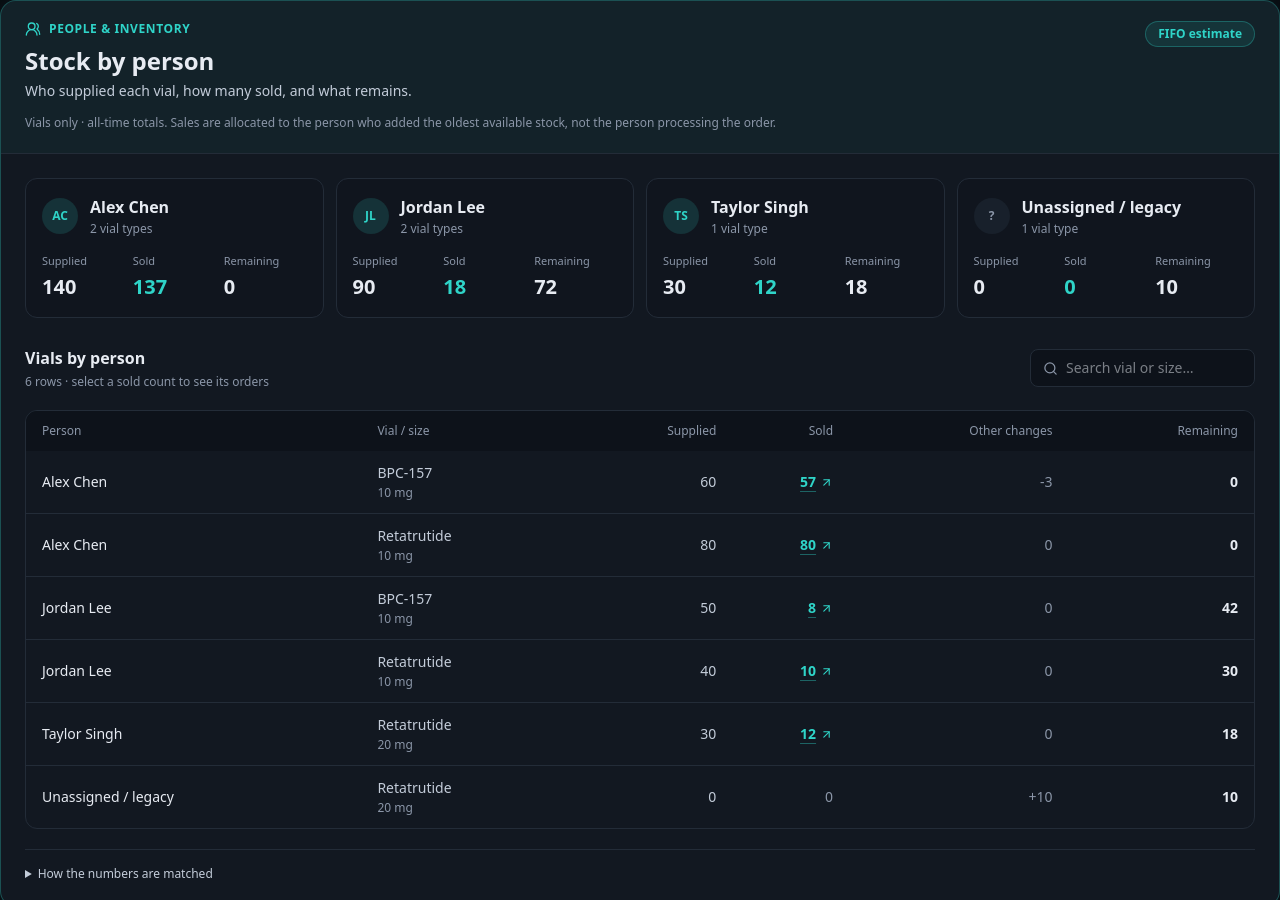
Test: filters by supplying person and vial size while keeping the matching counts together
Click the button with aria-label "View stock for Jordan Lee" at point(370, 216), box [336,178,634,318]
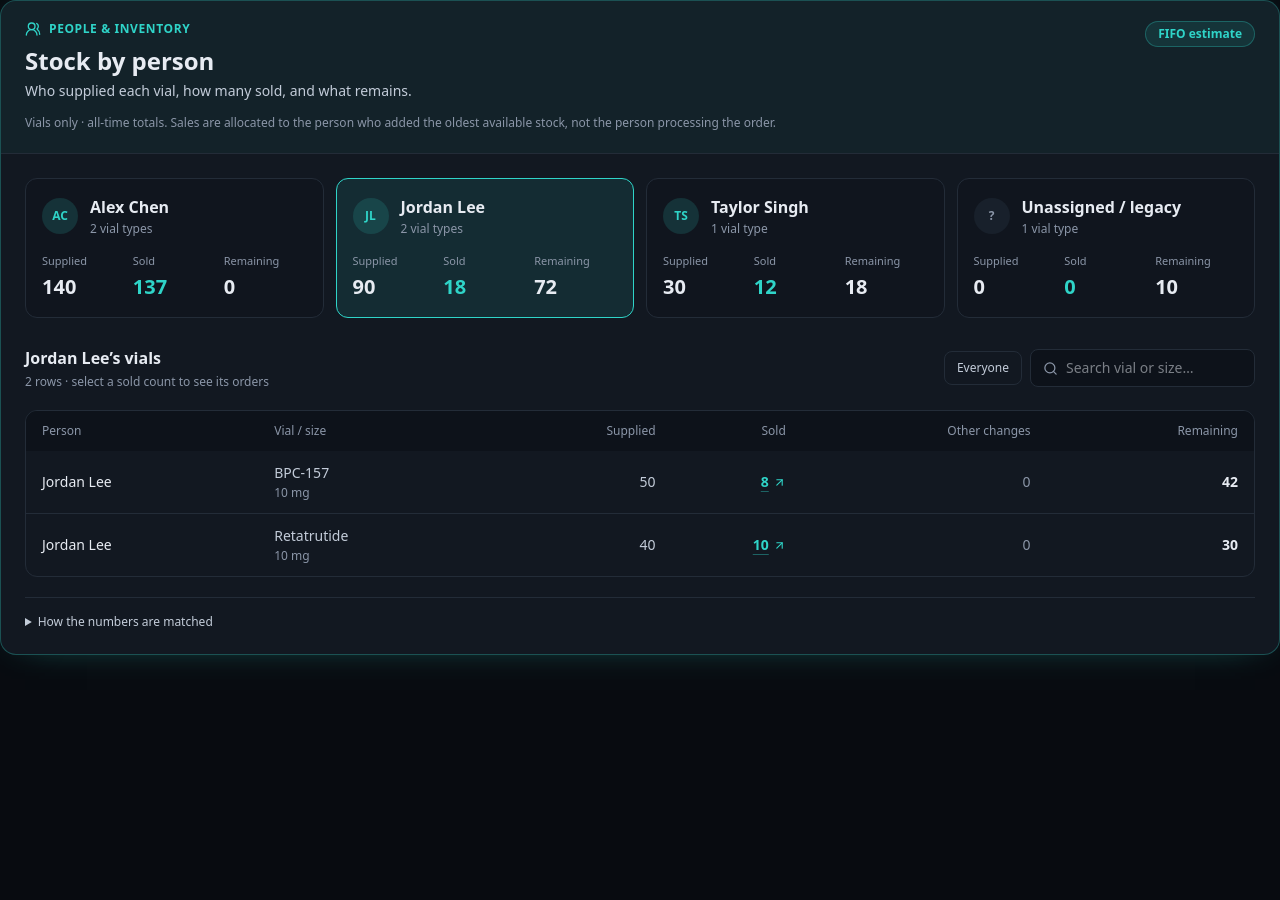
Type "Retatrutide 10 mg" into the field named "Search vials" at point(1154, 368), box [1066,358,1242,378]
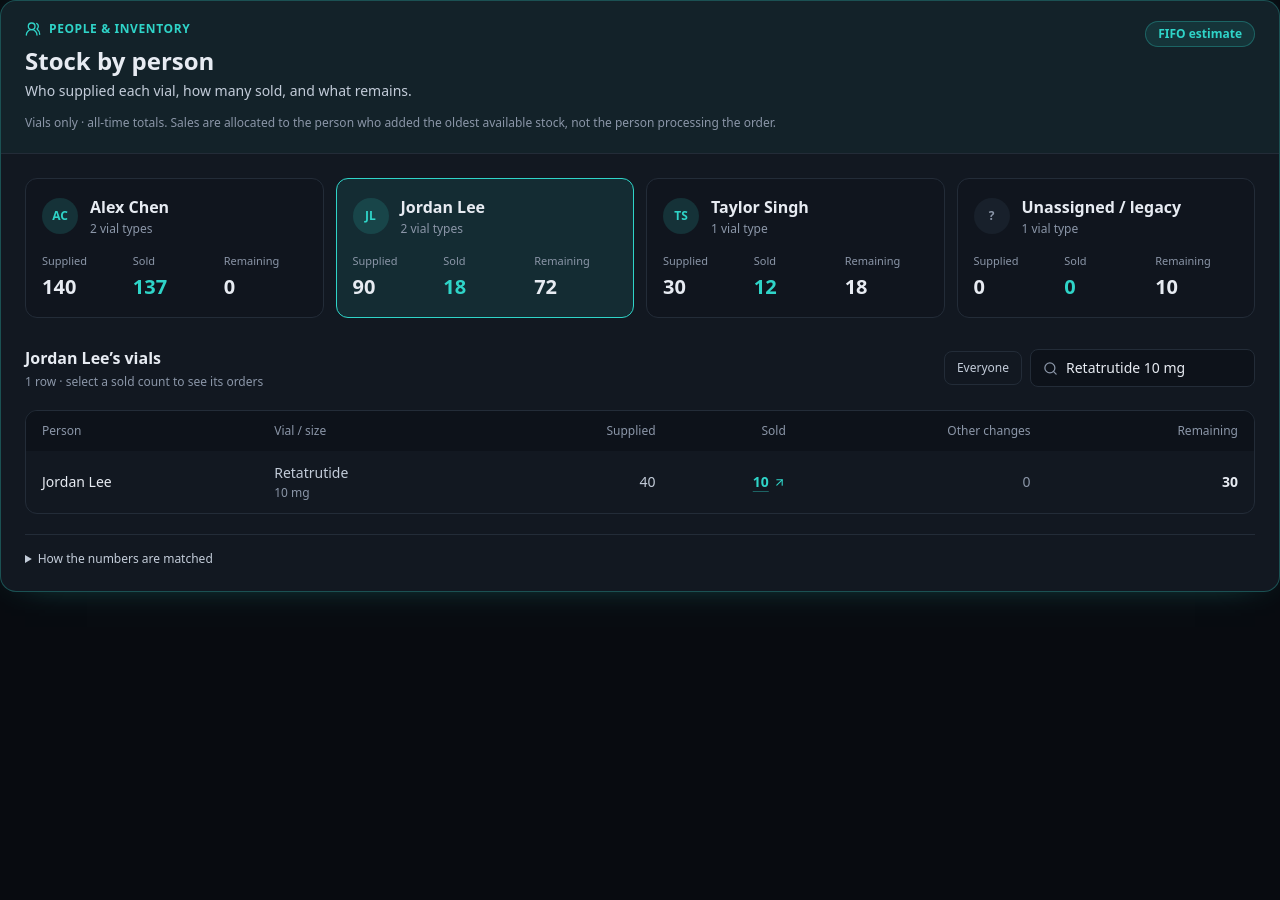
Expected: the number of rows is 2, [26,411,1254,451]; [26,451,1254,513]
Expected: the cells read "Retatrutide10 mg", "40", "10", "0", "30", in this order, [258,451,501,513]; [501,451,668,513]; [668,451,798,513]; [798,451,1043,513]; [1042,451,1254,513]
